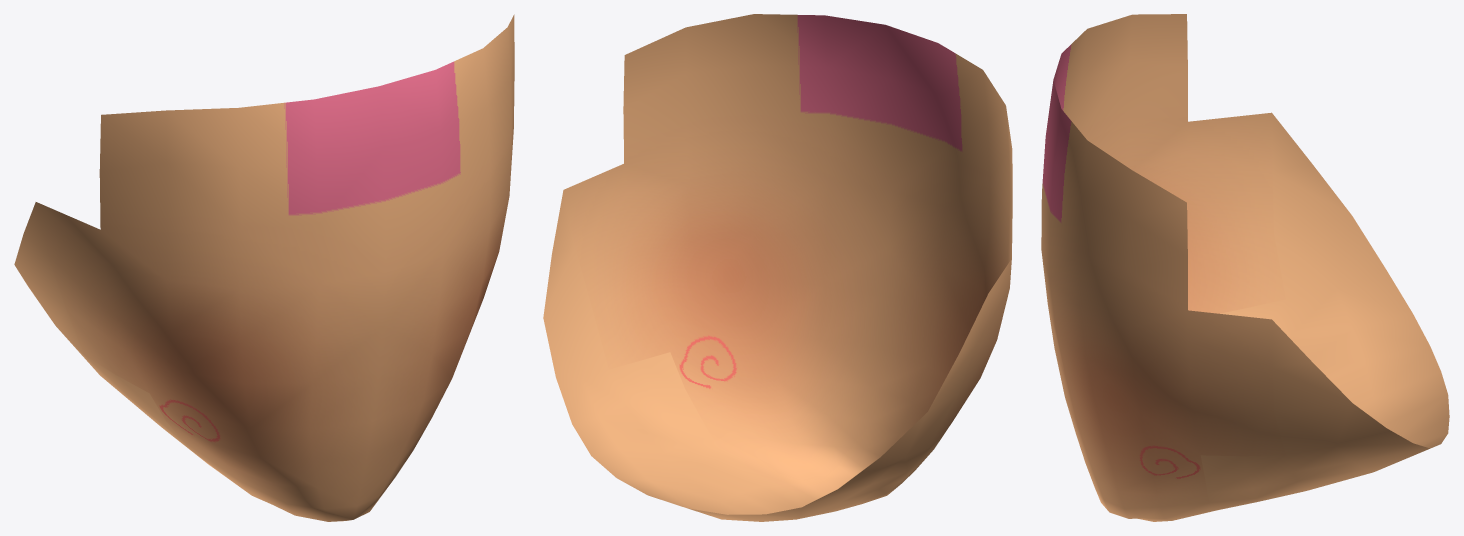
File: Faceline_8.glb
3 renders of one model, left to right at view 1: azimuth 30°, elevation 25°; view 2: azimuth 150°, elevation 25°; view 3: azimuth 270°, elevation 25°, orthographic. The views are drawn at different scales.
Visible parts, largest first — view 1: Head08; view 2: Head08; view 3: Head08.
Part boxes in pixels (<box>): Head08: <box>14,14,514,521</box>; Head08: <box>543,14,1012,521</box>; Head08: <box>1041,14,1449,521</box>.
Size of the model in its own units: 52.6 by 51.44 by 43.9.
1 material, 1 textured.
